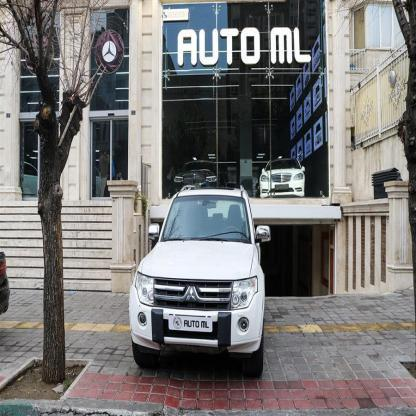Car: (128, 193, 270, 382), (256, 155, 314, 201), (172, 156, 223, 198)
